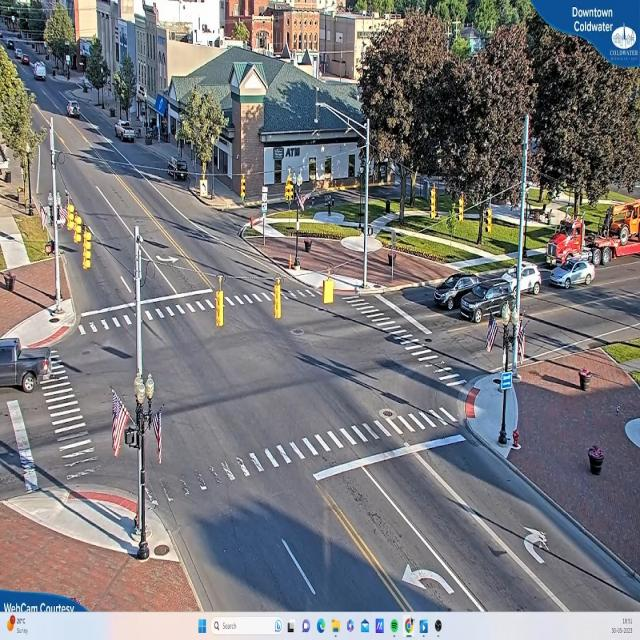car: (0, 338, 53, 394), (462, 283, 514, 321), (433, 275, 486, 308), (548, 258, 597, 289), (501, 264, 542, 298), (117, 124, 137, 143), (67, 101, 79, 118), (34, 67, 46, 81)
